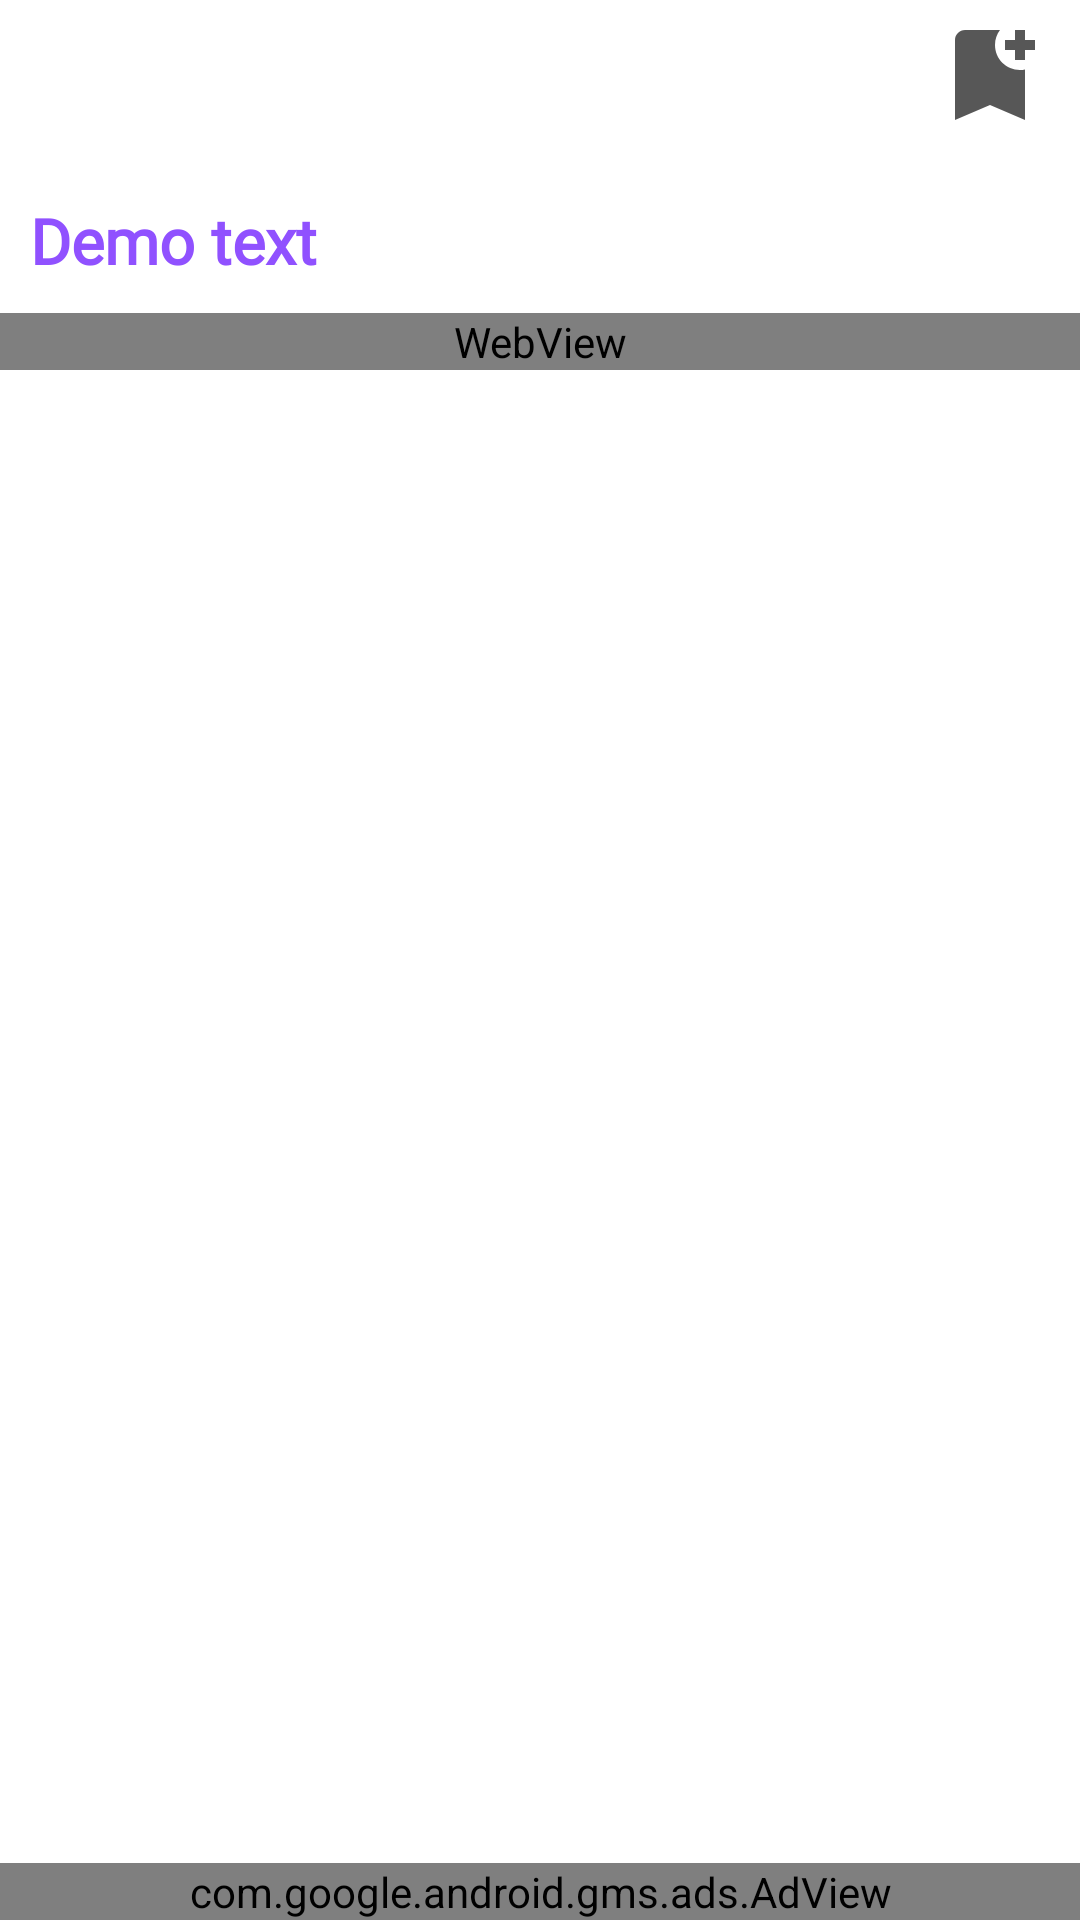

Icon click points for this 1080px x 1920px phone screenshot, format (x=x, y=y):
bookmark add: (x=995, y=75)
